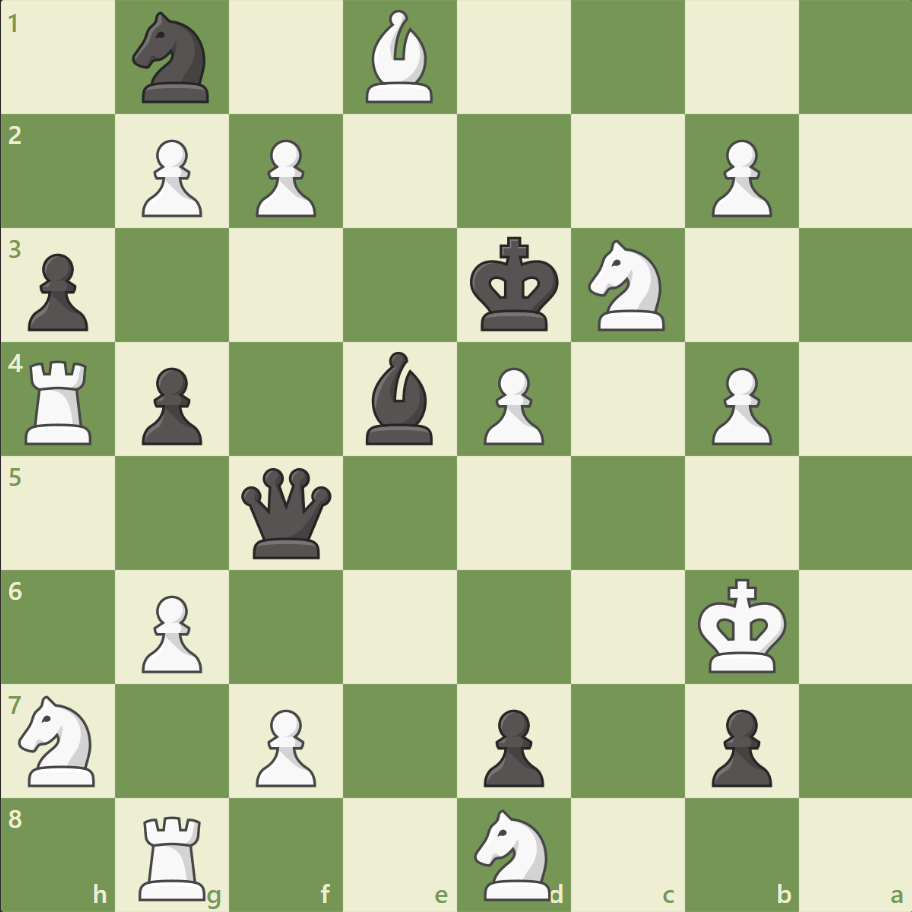B: (358, 6, 442, 109)
K: (692, 571, 792, 679)
N: (11, 688, 108, 791), (579, 234, 676, 337), (465, 802, 562, 904)
P: (247, 700, 322, 791), (133, 586, 208, 677), (701, 359, 776, 450), (474, 359, 549, 450), (701, 132, 776, 223), (247, 132, 322, 223), (133, 132, 208, 223)
R: (19, 352, 102, 449), (133, 806, 215, 904)
b: (358, 347, 442, 449)
k: (465, 231, 565, 339)
n: (124, 7, 222, 110)
p: (701, 700, 776, 791), (474, 700, 549, 791), (133, 359, 208, 450), (20, 246, 95, 337)
q: (237, 463, 336, 562)
